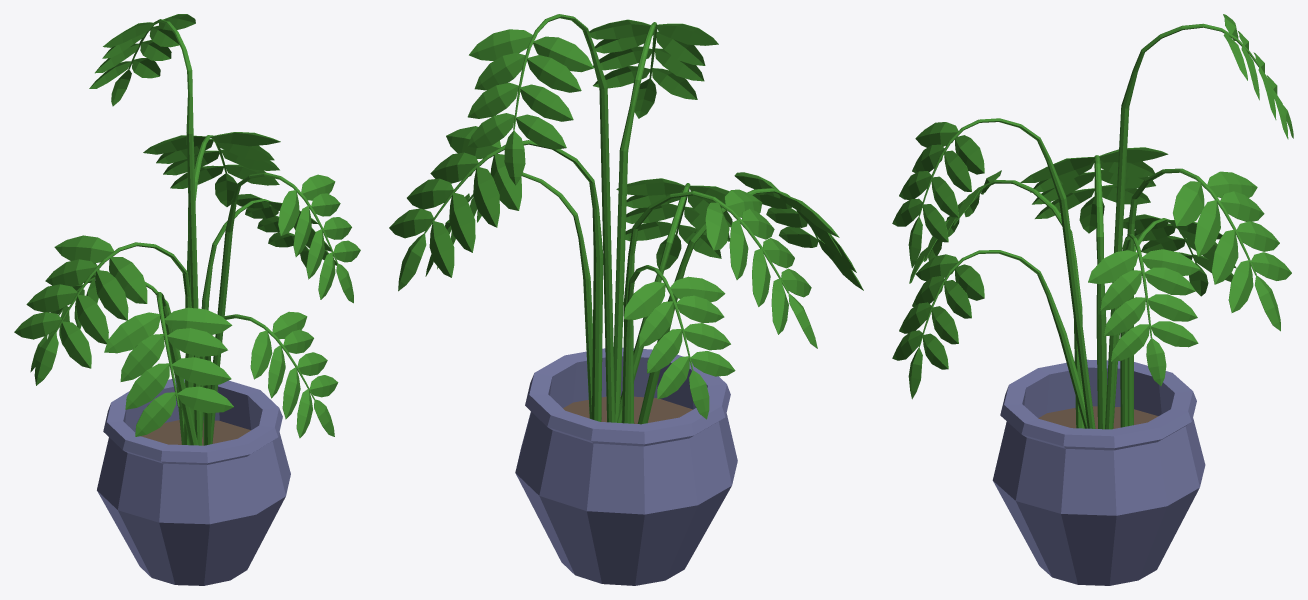
File: Flower_Palm.fbx
The picture shows the model from 3 angles, left to right: view 1: azimuth 30°, elevation 25°; view 2: azimuth 150°, elevation 25°; view 3: azimuth 270°, elevation 25°; orthographic projection. The views are drawn at different scales.
Visible parts, largest first — view 1: Flower_Palm; view 2: Flower_Palm; view 3: Flower_Palm.
Boxes of the visible parts, x1=… form: Flower_Palm: x1=14, y1=14, x2=360, y2=585; Flower_Palm: x1=389, y1=14, x2=863, y2=585; Flower_Palm: x1=892, y1=14, x2=1293, y2=585.
Size of the model in its own units: 111 by 113 by 170.
